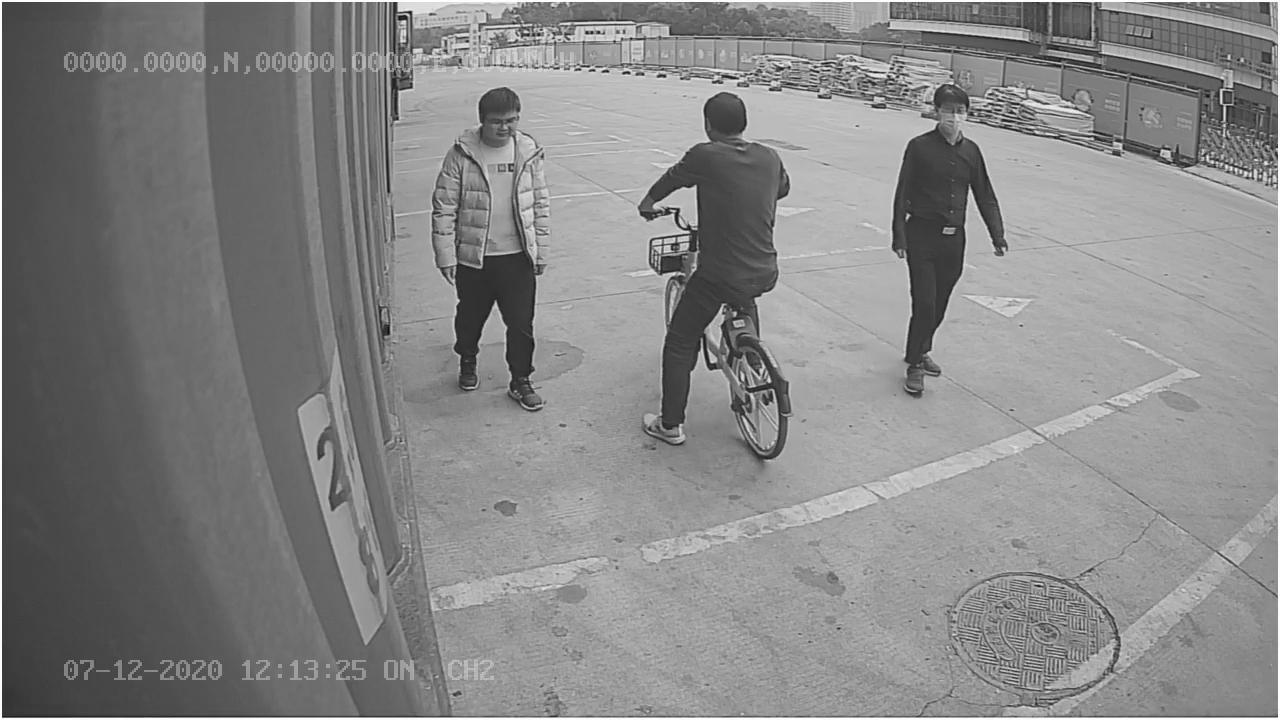person: (429, 84, 558, 412), (891, 82, 1013, 399)
